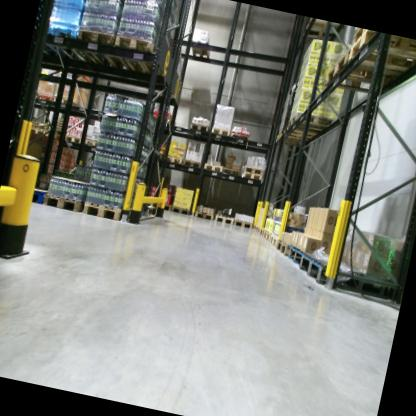pallet: (294, 253, 401, 306), (323, 45, 408, 101), (107, 31, 172, 88), (36, 10, 97, 68), (346, 26, 416, 76), (72, 23, 135, 77), (79, 198, 140, 229), (287, 106, 335, 137), (40, 186, 89, 214), (302, 16, 345, 46), (50, 91, 91, 117), (278, 121, 316, 149), (271, 129, 312, 150), (186, 36, 214, 63), (220, 165, 265, 180), (212, 204, 236, 229), (285, 242, 308, 268), (193, 202, 216, 223), (273, 236, 292, 259), (160, 150, 183, 168), (169, 202, 192, 220), (61, 130, 85, 147), (209, 123, 232, 140), (178, 156, 202, 172), (187, 119, 210, 135), (351, 28, 369, 48), (200, 159, 222, 175), (150, 199, 174, 213), (28, 185, 47, 202), (82, 133, 101, 150), (227, 131, 250, 145), (231, 218, 254, 231), (240, 172, 261, 185), (30, 125, 49, 136), (269, 233, 280, 246), (263, 229, 272, 242), (254, 225, 262, 232), (259, 228, 265, 236)
